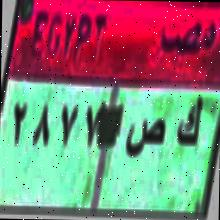2: (12, 96, 26, 152)
7: (59, 98, 77, 154), (84, 101, 102, 151)
8: (31, 104, 52, 152)
kaaf: (176, 88, 202, 163)
saad: (125, 115, 167, 166)
